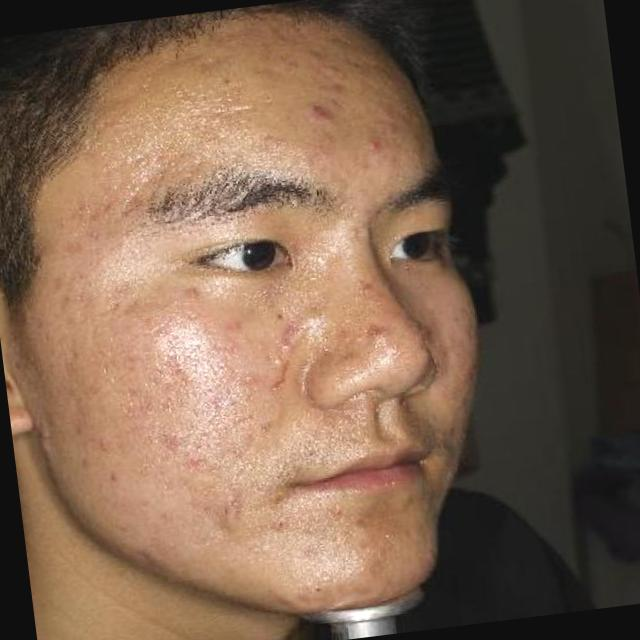nodules: (296, 94, 345, 132), (357, 135, 393, 157), (360, 320, 390, 344), (174, 280, 206, 302), (154, 429, 183, 453)
